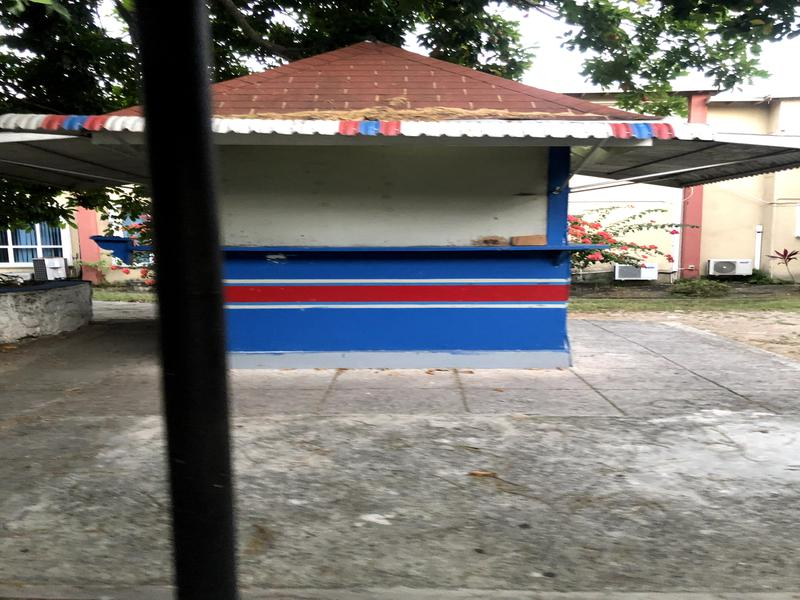18.0050609_-76.7496662_auntyjackie: (134, 1, 655, 371)
